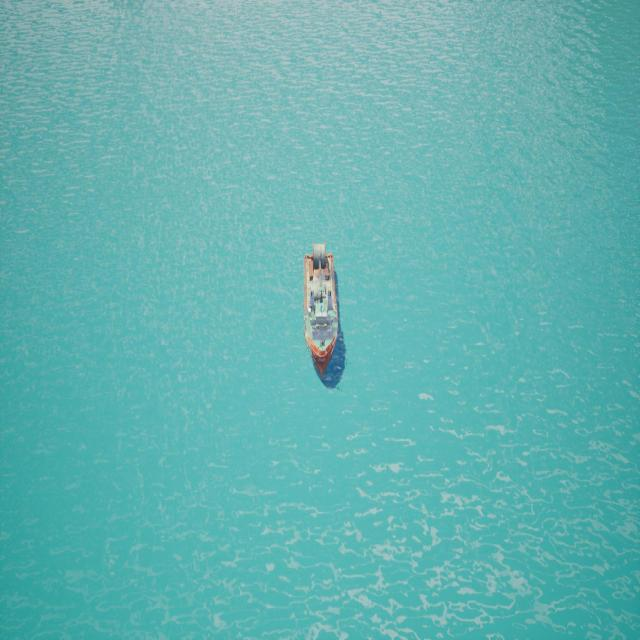tug boat: (265, 211, 364, 403)
